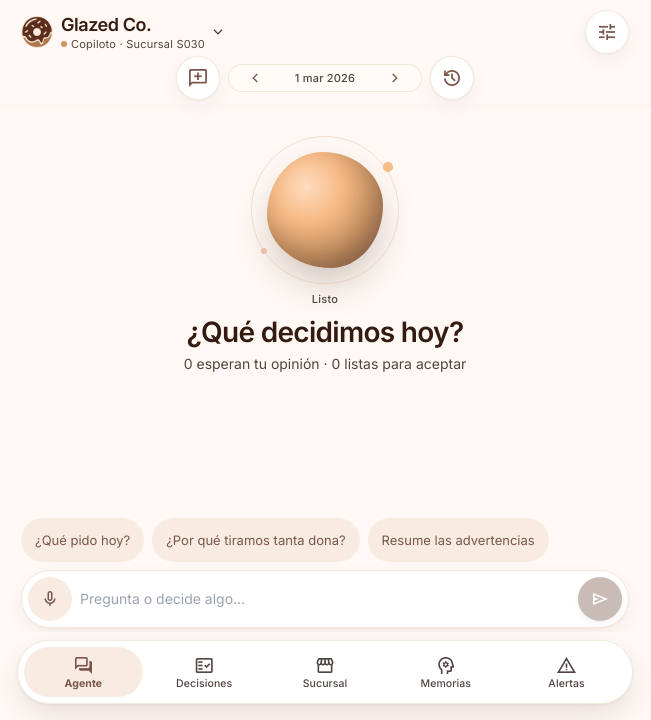
Test case: Decisiones window › shows empty states when nothing is pending
Click the button "Decisiones": (204,672) [145,647,264,697]
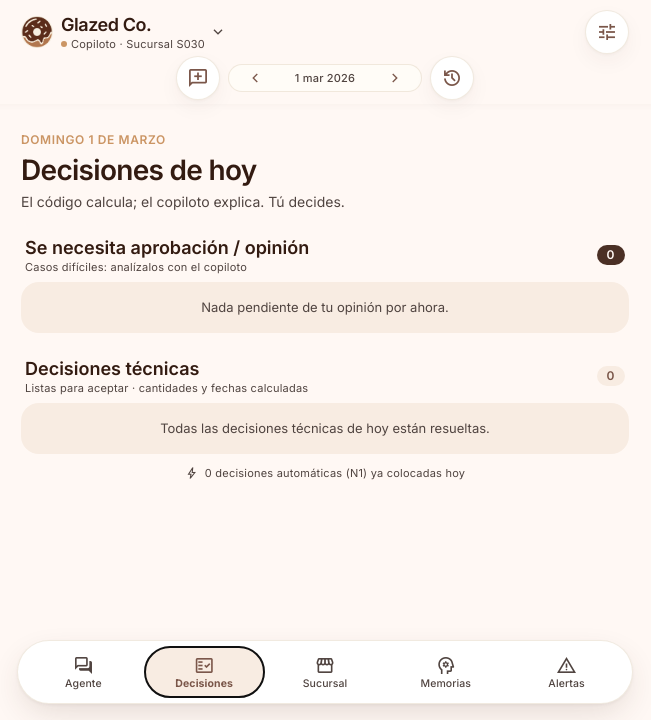
Expected: the heading "Decisiones de hoy" is shown, [21,153,257,187]
Expected: the text "Nada pendiente de tu opinión por ahora." is shown, [21,282,629,333]
Expected: the text "Todas las decisiones técnicas de hoy están resueltas." is shown, [21,403,629,454]
